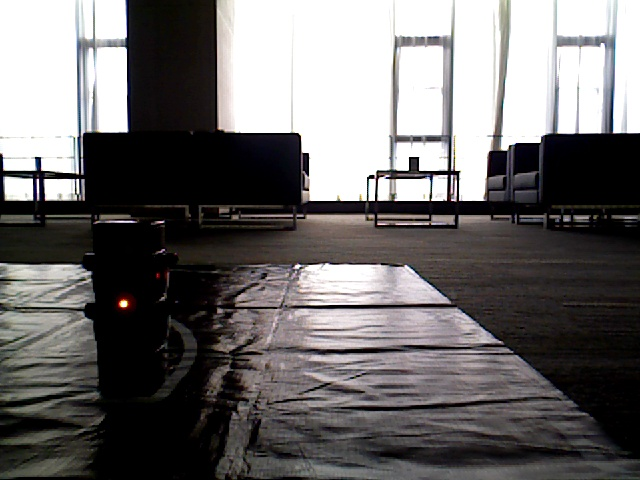yellow: (91, 226, 149, 354)
